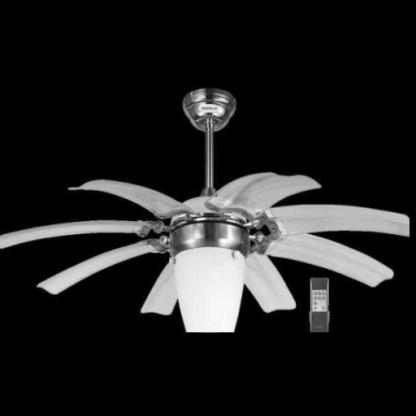ceiling-fan: (0, 86, 411, 334)
